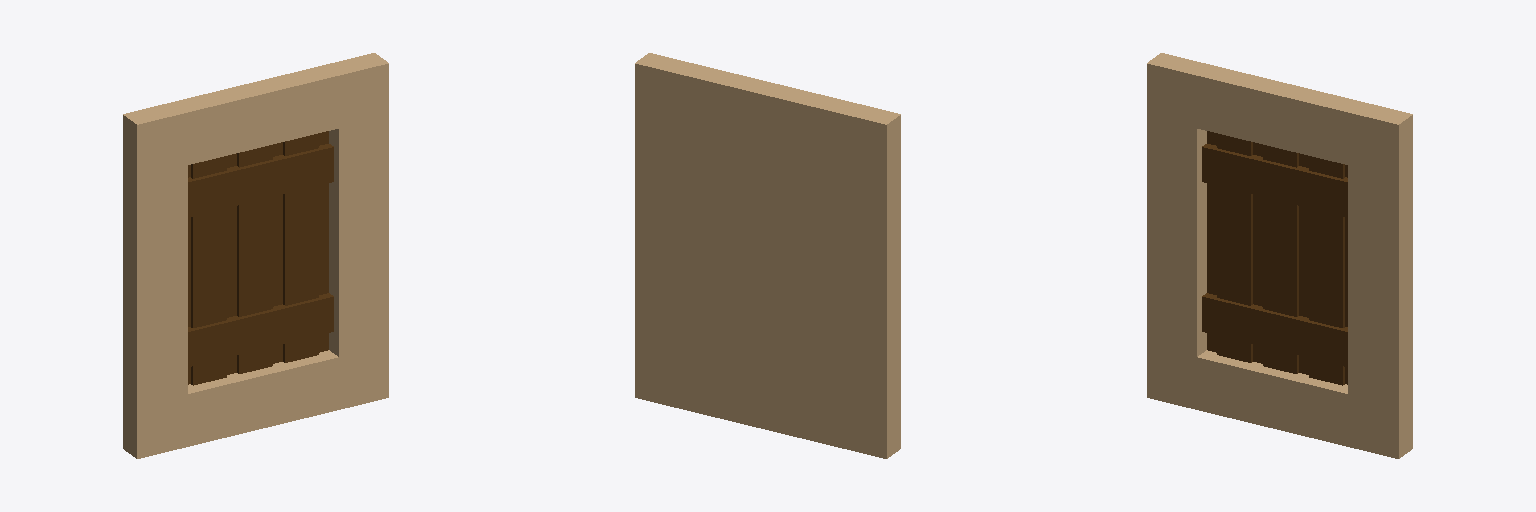
Rendered from Windows1.obj.
The picture shows the model from 3 angles: view 1: azimuth 30°, elevation 25°; view 2: azimuth 150°, elevation 25°; view 3: azimuth 330°, elevation 25°; orthographic projection.
Size of the model in its own units: 0.3 by 0.38 by 0.03.